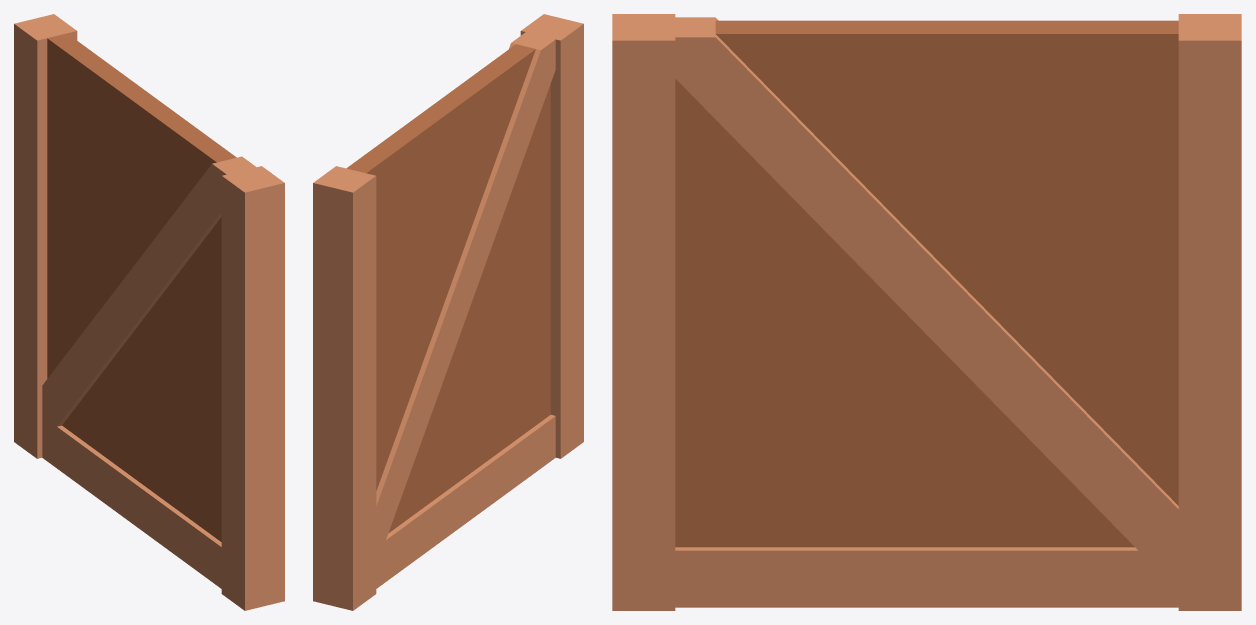
Rendered from wallWoodDetailDiagonal.fbx.
3 renders of one model, left to right at view 1: azimuth 30°, elevation 25°; view 2: azimuth 150°, elevation 25°; view 3: azimuth 270°, elevation 25°, orthographic. The views are drawn at different scales.
Parts seen in each view (by area): view 1: wallWoodDetailDiagonal; view 2: wallWoodDetailDiagonal; view 3: wallWoodDetailDiagonal.
Part boxes in pixels (x1,y1,x2,y2): wallWoodDetailDiagonal: [14, 14, 284, 610]; wallWoodDetailDiagonal: [313, 14, 583, 610]; wallWoodDetailDiagonal: [612, 14, 1241, 610].
Bounding box in the file's own units: 1 × 10 × 10.
